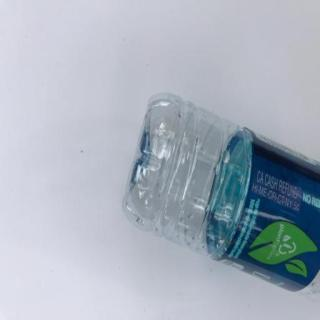Plastic-bottle: (121, 92, 320, 303)
